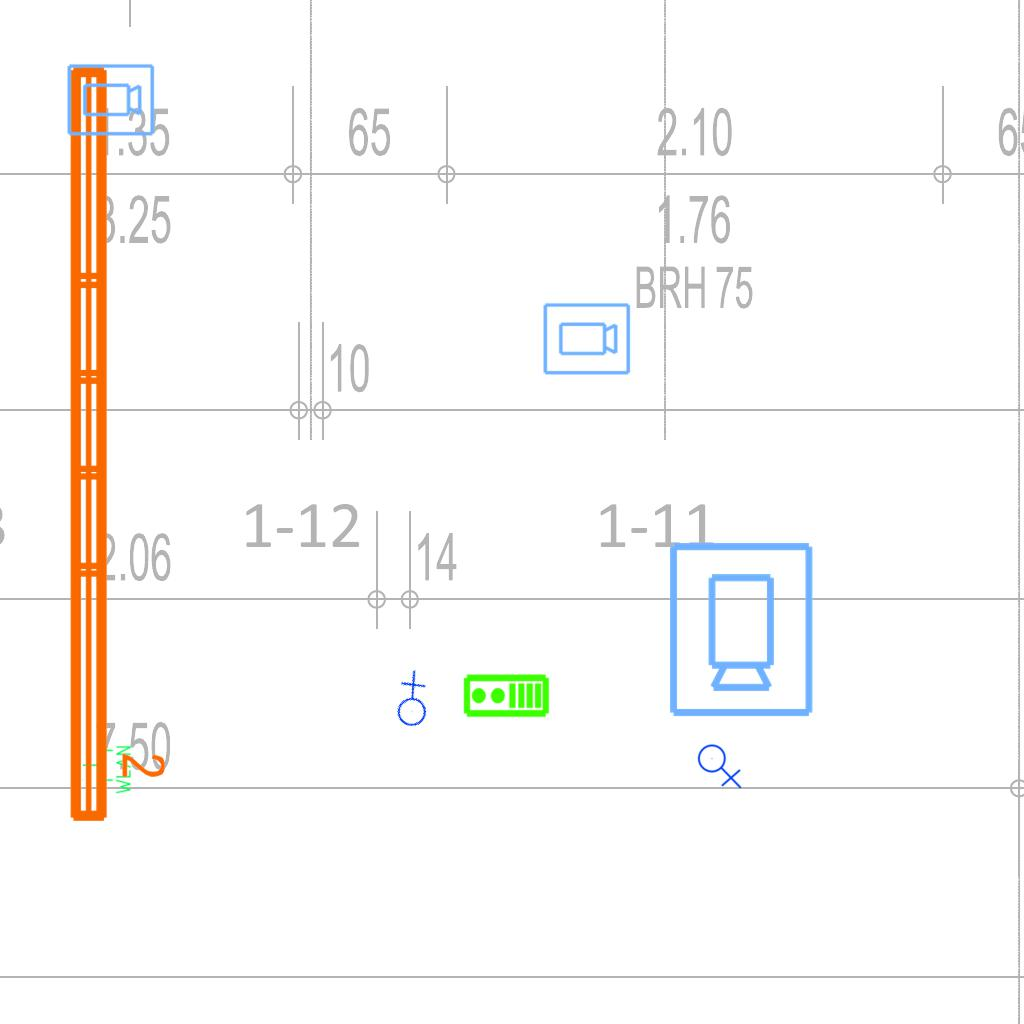Ambulanz_Pendelleuchte_LED: (58, 56, 170, 830)
Elektroanschluss_allgemein_230V_Geraeteanschlussdose_230V: (376, 667, 445, 736), (697, 740, 744, 789)
Gegensprechanlage_mit_Video: (462, 673, 550, 720)
KFO_Kamera_mit_Festobjektiv: (663, 538, 817, 720), (541, 301, 632, 378), (65, 62, 156, 139)
WLAN: (81, 744, 133, 796)
